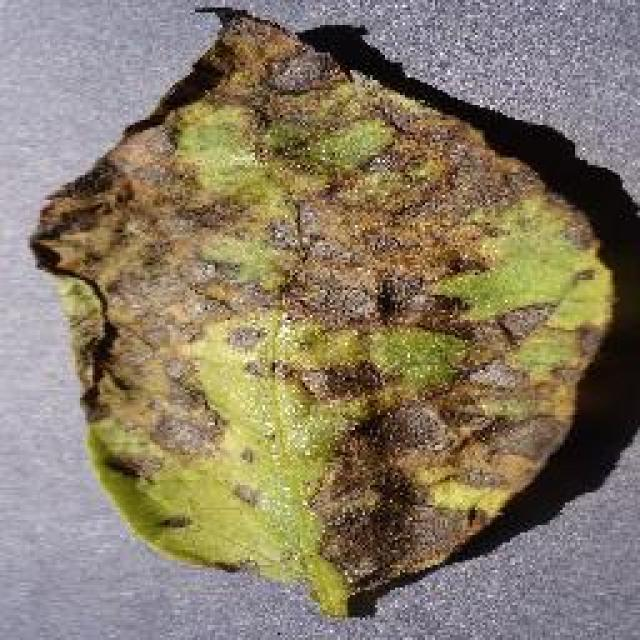early_blight: (25, 2, 620, 622)
